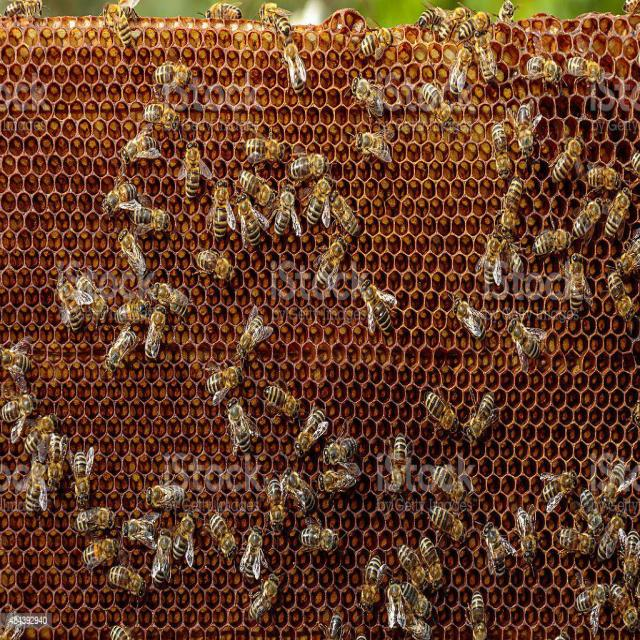honeybee: (502, 313, 540, 382), (532, 454, 578, 508), (350, 550, 388, 615), (103, 557, 149, 602), (428, 364, 453, 446), (118, 220, 149, 286), (201, 493, 232, 557), (58, 269, 89, 331), (463, 591, 502, 640), (471, 43, 507, 96), (386, 580, 420, 636), (150, 521, 175, 597), (65, 442, 91, 514), (356, 264, 382, 336), (12, 12, 56, 54), (347, 129, 392, 170), (294, 514, 334, 560), (281, 463, 315, 517), (430, 509, 470, 554), (614, 569, 639, 640), (104, 9, 139, 59), (171, 512, 200, 572), (412, 81, 448, 128), (120, 129, 162, 169), (171, 125, 203, 177), (435, 450, 467, 502), (482, 529, 513, 582), (251, 576, 287, 621), (280, 182, 307, 241), (2, 386, 39, 429), (340, 189, 370, 240), (206, 186, 232, 244), (242, 314, 276, 358), (342, 76, 386, 110), (242, 185, 266, 247), (511, 108, 542, 156), (564, 252, 588, 314), (566, 192, 593, 244), (280, 37, 308, 87), (103, 335, 143, 370), (551, 522, 580, 570), (418, 542, 451, 584), (4, 339, 36, 382), (128, 204, 172, 235), (247, 163, 276, 210), (551, 136, 577, 188), (148, 305, 173, 359), (119, 288, 153, 327), (286, 418, 325, 452), (606, 263, 632, 314), (526, 222, 564, 256), (300, 170, 328, 214), (148, 469, 178, 510), (153, 61, 190, 94), (498, 171, 525, 216), (306, 246, 337, 285), (534, 51, 557, 103), (465, 285, 482, 355), (468, 375, 488, 434), (234, 506, 253, 568), (79, 497, 113, 531), (261, 464, 282, 519), (274, 370, 299, 416), (201, 0, 239, 29), (99, 175, 133, 207), (576, 46, 599, 93), (579, 484, 600, 535), (620, 524, 640, 577), (378, 439, 405, 478), (120, 510, 155, 540), (514, 513, 540, 553), (200, 243, 228, 279), (399, 577, 428, 611), (480, 227, 498, 278), (587, 158, 618, 187), (501, 234, 522, 276), (152, 98, 174, 138), (604, 188, 626, 227), (263, 0, 288, 34), (158, 284, 187, 313), (23, 410, 43, 452), (244, 138, 275, 164), (24, 463, 41, 510), (574, 576, 594, 614), (617, 6, 640, 39), (602, 450, 618, 497), (615, 240, 640, 270), (42, 425, 59, 469), (354, 14, 376, 48), (292, 144, 315, 176), (411, 0, 435, 30), (624, 137, 640, 181), (202, 368, 236, 388), (228, 411, 250, 441), (3, 607, 23, 640), (605, 506, 620, 550), (498, 8, 523, 34), (394, 540, 414, 571), (76, 543, 112, 559), (464, 19, 486, 43), (493, 120, 504, 168), (326, 468, 348, 491), (444, 8, 458, 36), (319, 440, 346, 453), (622, 472, 635, 493), (450, 62, 461, 81), (114, 630, 128, 637)
